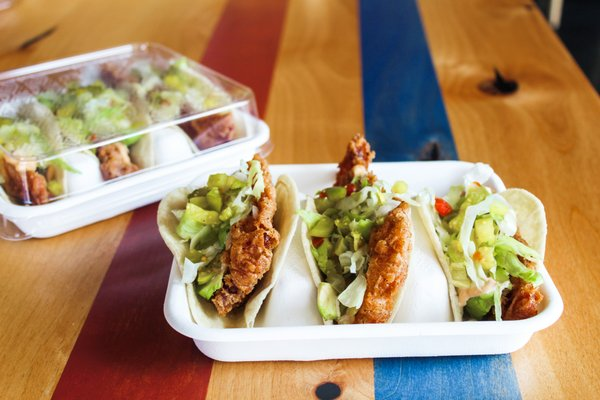soup: (157, 157, 295, 318), (299, 164, 415, 325)
sushi: (0, 41, 269, 240)
